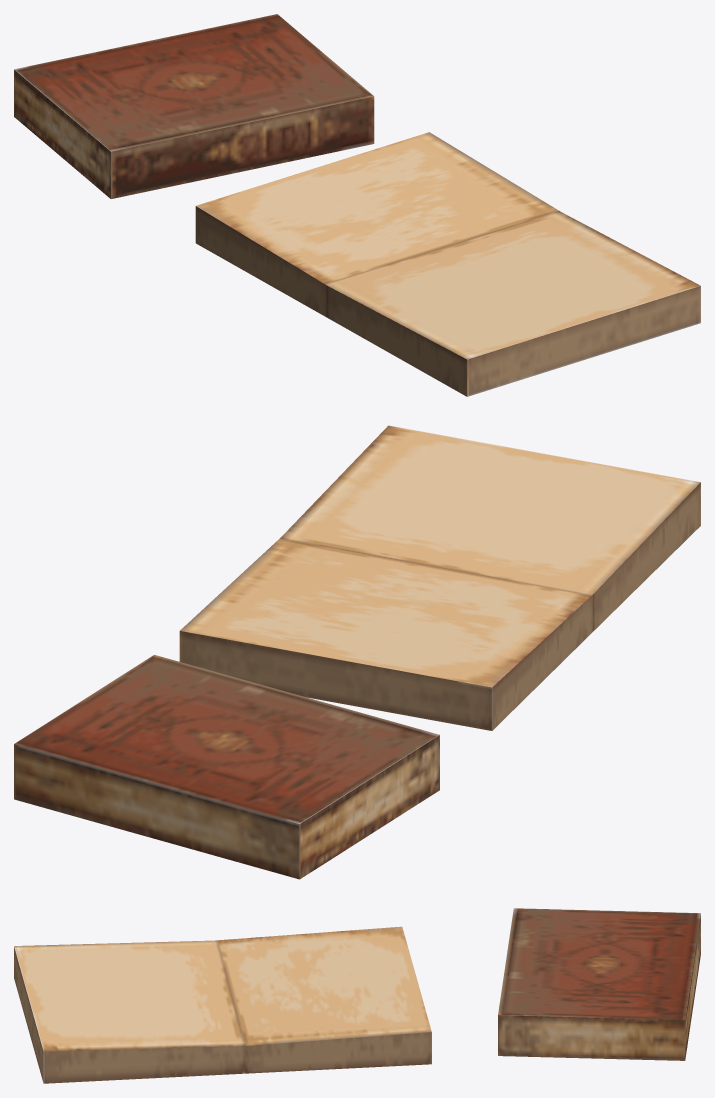
File: psxbook.fbx
The picture shows the model from 3 angles, top to bottom: view 1: azimuth 30°, elevation 25°; view 2: azimuth 150°, elevation 25°; view 3: azimuth 270°, elevation 25°; orthographic projection. The views are drawn at different scales.
Visible parts, largest first — view 1: Cube, Cube.001; view 2: Cube, Cube.001; view 3: Cube, Cube.001.
Part boxes in pixels (x1,y1,x2,y2): Cube: (195, 132, 700, 396); Cube.001: (14, 14, 374, 198); Cube: (179, 425, 700, 730); Cube.001: (14, 655, 439, 879); Cube: (14, 926, 431, 1083); Cube.001: (498, 908, 700, 1060).
Bounding box in the file's own units: 116 × 17.07 × 252.
